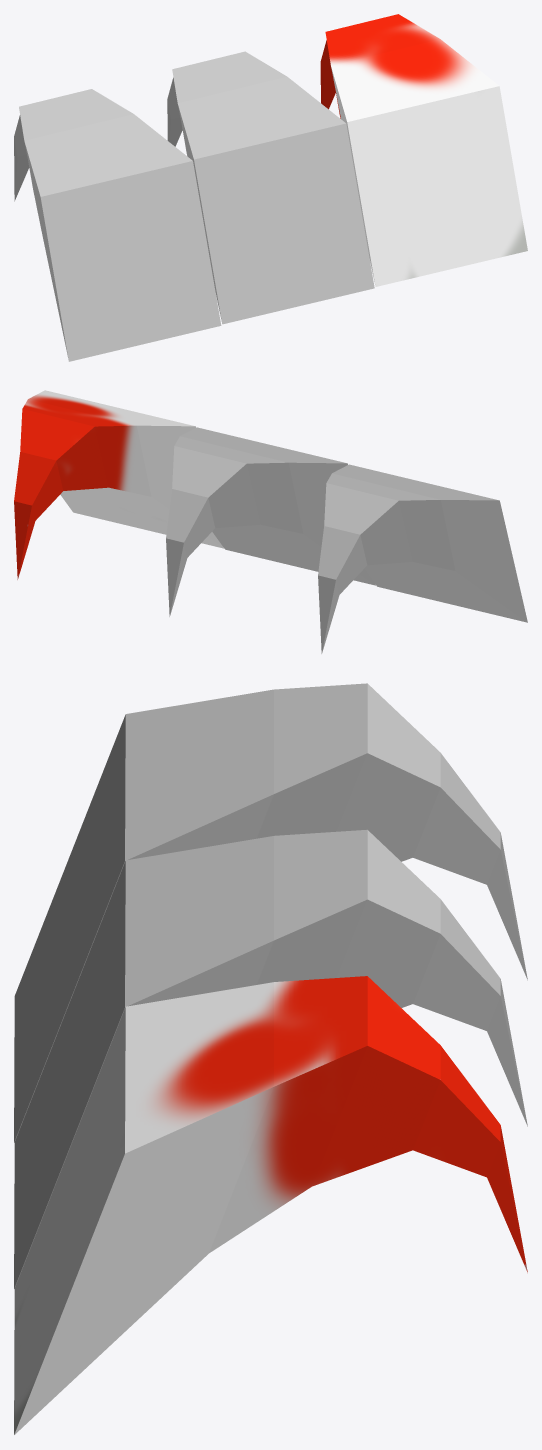
Rendered from Garras.fbx.
The picture shows the model from 3 angles, top to bottom: view 1: azimuth 30°, elevation 25°; view 2: azimuth 150°, elevation 25°; view 3: azimuth 270°, elevation 25°; orthographic projection. The views are drawn at different scales.
Parts seen in each view (by area): view 1: Cubo.001, Cubo, Cubo.002; view 2: Cubo.001, Cubo, Cubo.002; view 3: Cubo.002, Cubo.001, Cubo.
Boxes of the visible parts, x1,y1,x2,y2 form: Cubo.001: [14, 89, 221, 361]; Cubo: [167, 51, 374, 324]; Cubo.002: [320, 14, 527, 286]; Cubo.001: [318, 464, 527, 653]; Cubo: [166, 427, 375, 616]; Cubo.002: [14, 390, 223, 579]; Cubo.002: [14, 976, 527, 1434]; Cubo.001: [14, 683, 527, 1142]; Cubo: [14, 829, 527, 1288].
Bounding box in the file's own units: 627 × 236 × 311.
